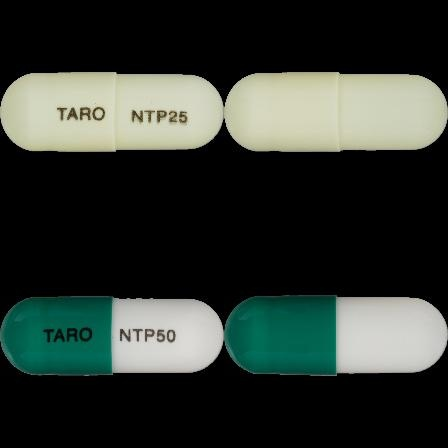51672-4002: (0, 0, 224, 224)
